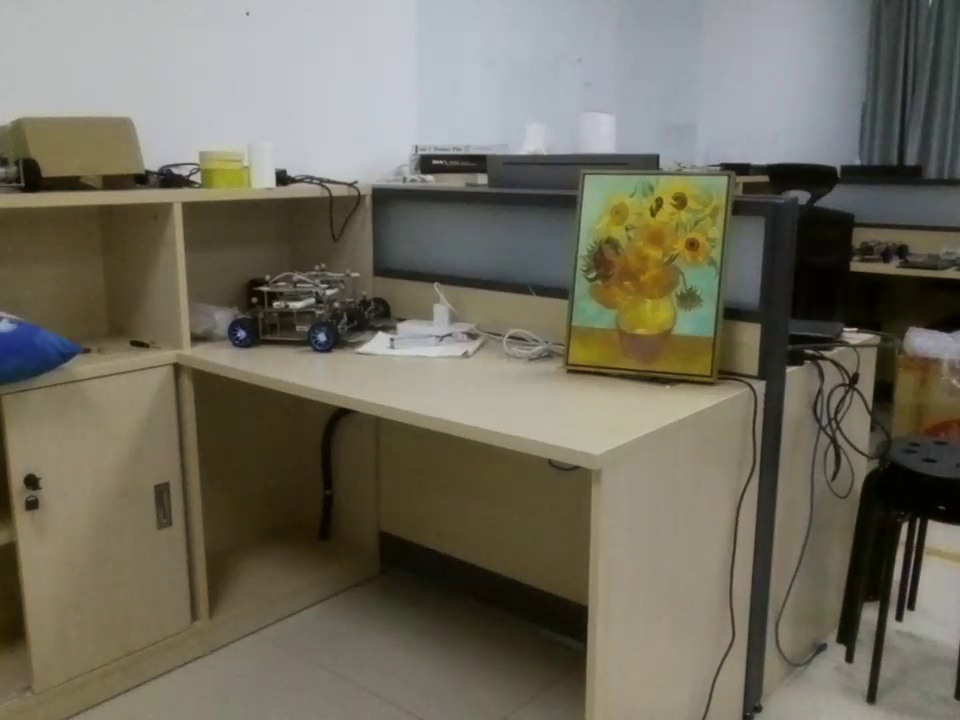painting: (568, 169, 740, 385)
